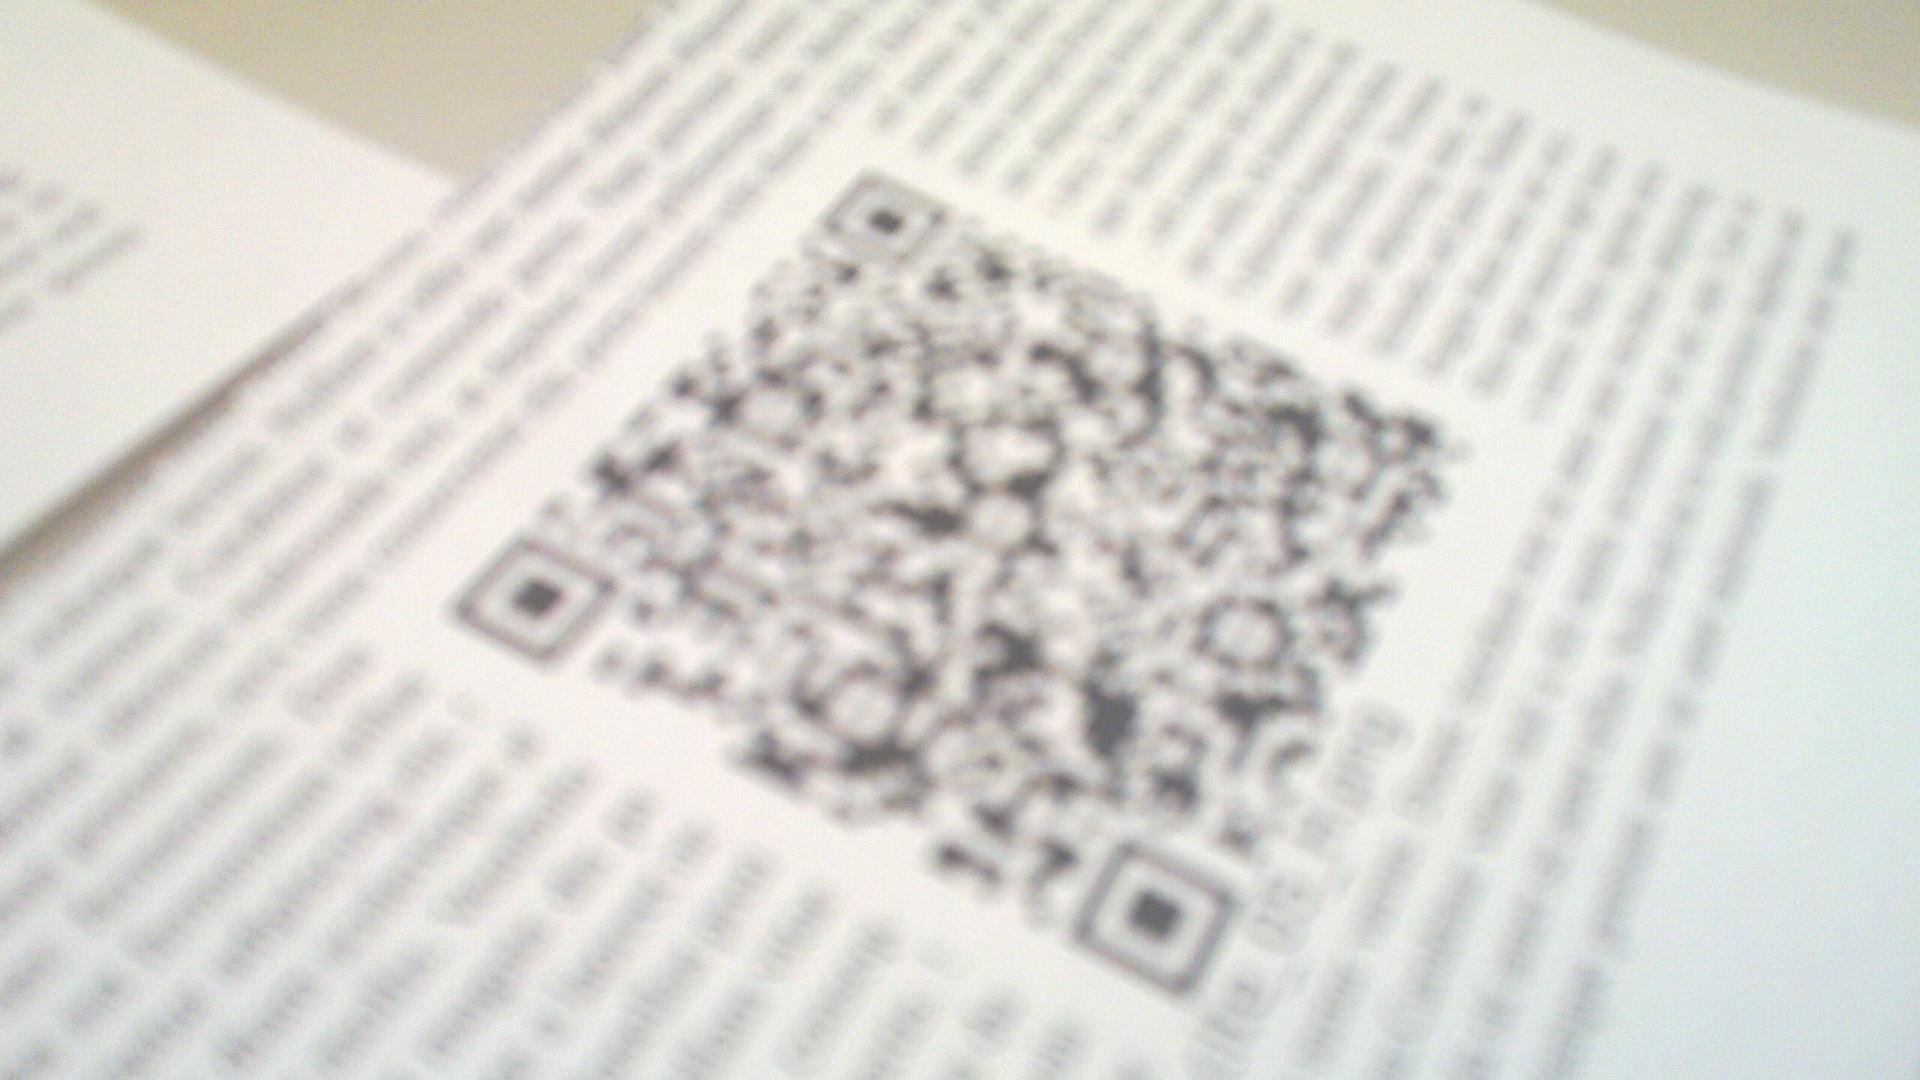Finder pattern: (1072, 839, 1234, 990), (451, 541, 616, 666), (818, 173, 956, 266)
